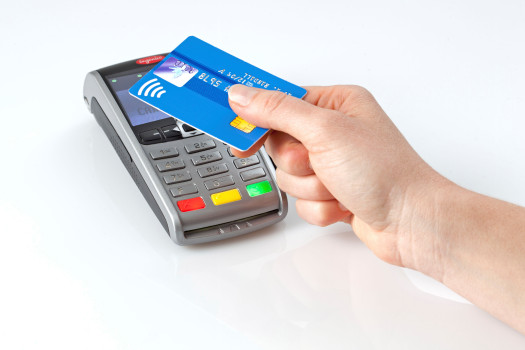tarjeta: (127, 35, 310, 152)
